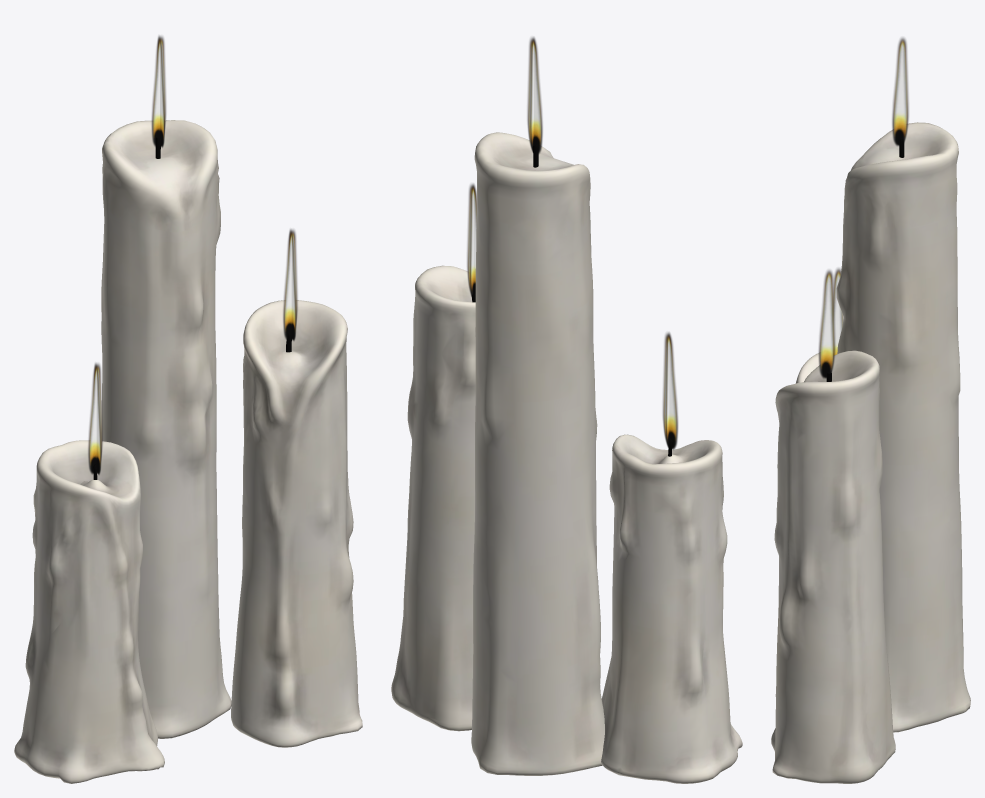
The model's file is candles.glb.
3 views of the same model, side by side, from view 1: azimuth 30°, elevation 25°; view 2: azimuth 150°, elevation 25°; view 3: azimuth 270°, elevation 25° (orthographic). The views are drawn at different scales.
Visible parts, largest first — view 1: CandleSet01_Stick03_geo_Candles_MAT_0, CandleSet01_Stick02_Flame_geo_Candles_Fire_MAT_0; view 2: CandleSet01_Stick03_geo_Candles_MAT_0, CandleSet01_Stick02_Flame_geo_Candles_Fire_MAT_0; view 3: CandleSet01_Stick03_geo_Candles_MAT_0, CandleSet01_Stick02_Flame_geo_Candles_Fire_MAT_0.
Part boxes in pixels (<box>): CandleSet01_Stick03_geo_Candles_MAT_0: <box>14,120,362,783</box>; CandleSet01_Stick02_Flame_geo_Candles_Fire_MAT_0: <box>88,35,297,474</box>; CandleSet01_Stick03_geo_Candles_MAT_0: <box>391,132,742,783</box>; CandleSet01_Stick02_Flame_geo_Candles_Fire_MAT_0: <box>467,37,677,449</box>; CandleSet01_Stick03_geo_Candles_MAT_0: <box>771,122,970,783</box>; CandleSet01_Stick02_Flame_geo_Candles_Fire_MAT_0: <box>818,37,908,378</box>.
Size of the model in its own units: 0.1522 by 0.3185 by 0.084.
3 materials, 2 textured.
